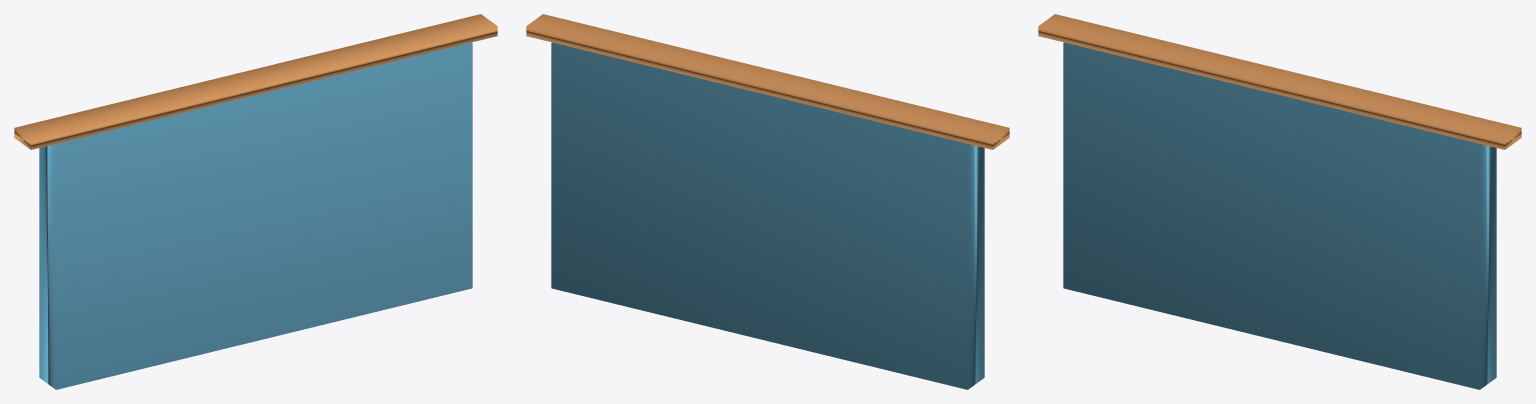
Rendered from hinderniss.fbx.
3 views of the same model, side by side, from view 1: azimuth 30°, elevation 25°; view 2: azimuth 150°, elevation 25°; view 3: azimuth 330°, elevation 25° (orthographic).
Parts seen in each view (by area): view 1: Cube, Cube.001; view 2: Cube, Cube.001; view 3: Cube, Cube.001.
Boxes of the visible parts, x1=… form: Cube: x1=39, y1=42, x2=472, y2=389; Cube.001: x1=14, y1=14, x2=497, y2=149; Cube: x1=551, y1=42, x2=984, y2=389; Cube.001: x1=526, y1=14, x2=1009, y2=149; Cube: x1=1063, y1=42, x2=1496, y2=389; Cube.001: x1=1038, y1=14, x2=1521, y2=149.
Bounding box in the file's own units: 370 × 194 × 23.06.
